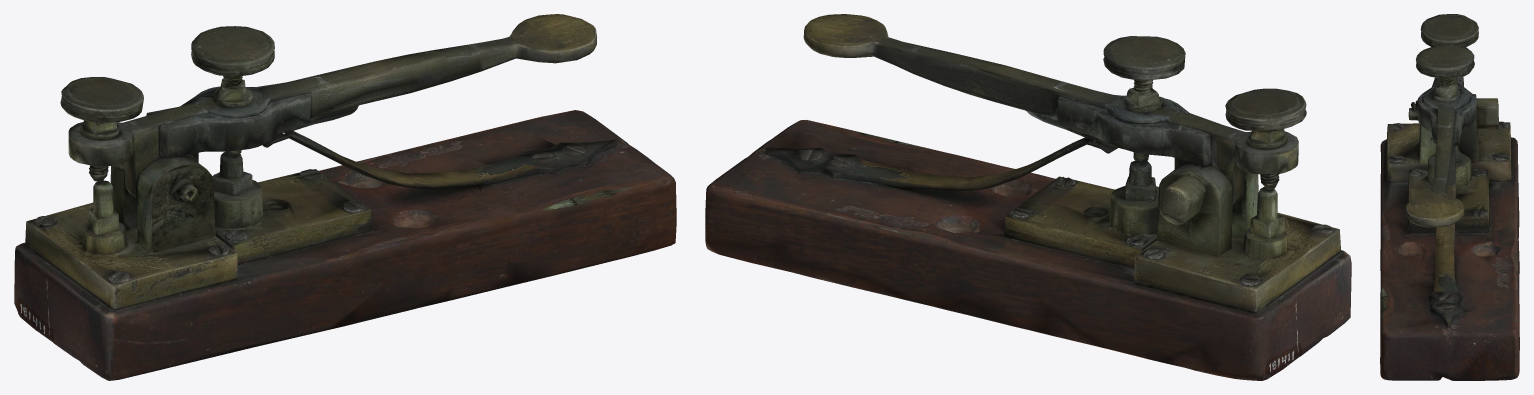
Rendered from morse-telegraph-key.glb.
The picture shows the model from 3 angles, left to right: view 1: azimuth 30°, elevation 25°; view 2: azimuth 150°, elevation 25°; view 3: azimuth 270°, elevation 25°; orthographic projection. The views are drawn at different scales.
Visible parts, largest first — view 1: storystage-size; view 2: storystage-size; view 3: storystage-size.
Boxes of the visible parts, x1,y1,x2,y2 form: storystage-size: (14,14,676,380); storystage-size: (705,14,1351,380); storystage-size: (1380,14,1519,380).
Bounding box in the file's own units: 0.1769 × 0.08 × 0.0531.
1 material, 1 textured.
